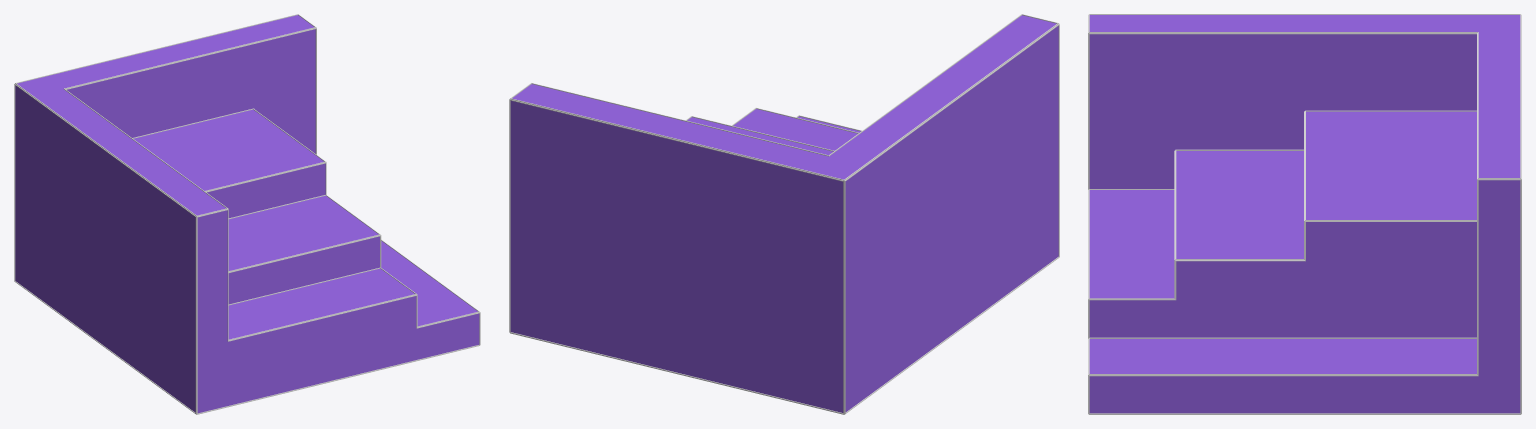
The model's file is PecaF.glb.
3 renders of one model, left to right at view 1: azimuth 30°, elevation 25°; view 2: azimuth 150°, elevation 25°; view 3: azimuth 270°, elevation 25°, orthographic. The views are drawn at different scales.
Visible parts, largest first — view 1: Sólido1; view 2: Sólido1; view 3: Sólido1.
Boxes of the visible parts, box(x1,y1,x2,y2) form: Sólido1: box(14, 14, 480, 414); Sólido1: box(509, 14, 1059, 414); Sólido1: box(1088, 14, 1521, 414).
Bounding box in the file's own units: 0.0452 × 0.0302 × 0.0502.
